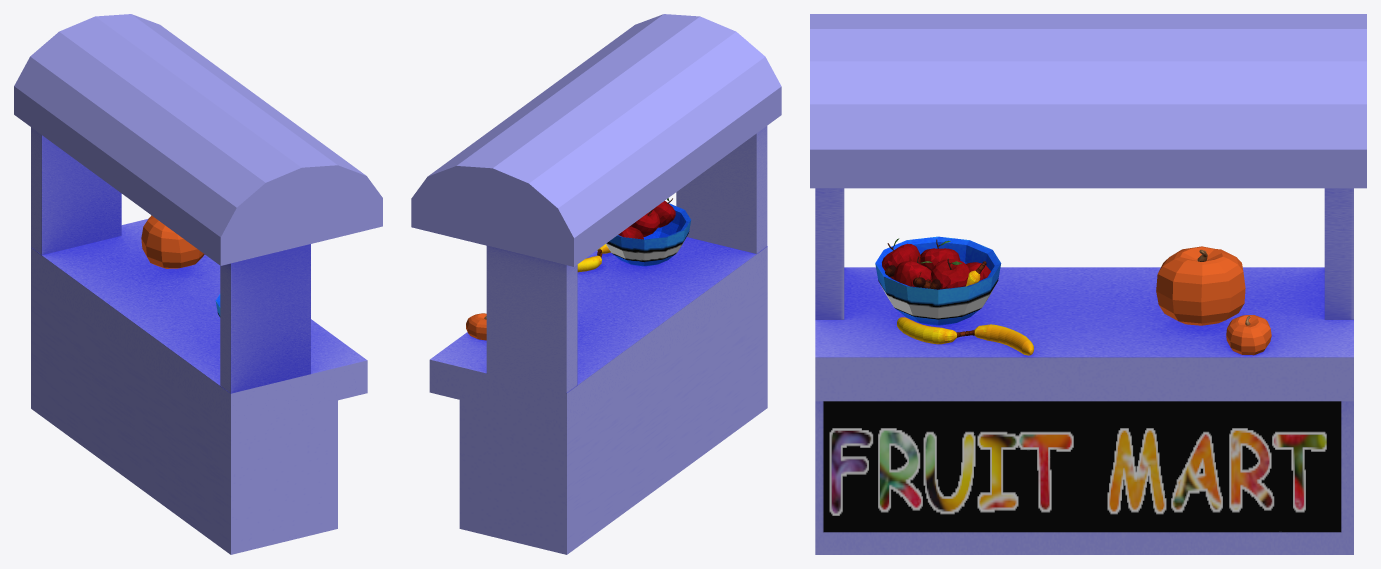
Rendered from model_promps_foodStand.fbx.
The picture shows the model from 3 angles, left to right: view 1: azimuth 30°, elevation 25°; view 2: azimuth 150°, elevation 25°; view 3: azimuth 270°, elevation 25°; orthographic projection. The views are drawn at different scales.
Parts seen in each view (by area): view 1: uvAtlas_fruitstand_mergedObject; view 2: uvAtlas_fruitstand_mergedObject; view 3: uvAtlas_fruitstand_mergedObject.
Part boxes in pixels (bbox=[...]): uvAtlas_fruitstand_mergedObject: bbox=[14, 14, 382, 554]; uvAtlas_fruitstand_mergedObject: bbox=[411, 14, 781, 554]; uvAtlas_fruitstand_mergedObject: bbox=[810, 14, 1366, 554].
Bounding box in the file's own units: 264 × 579 × 583.
1 material, 1 textured.
